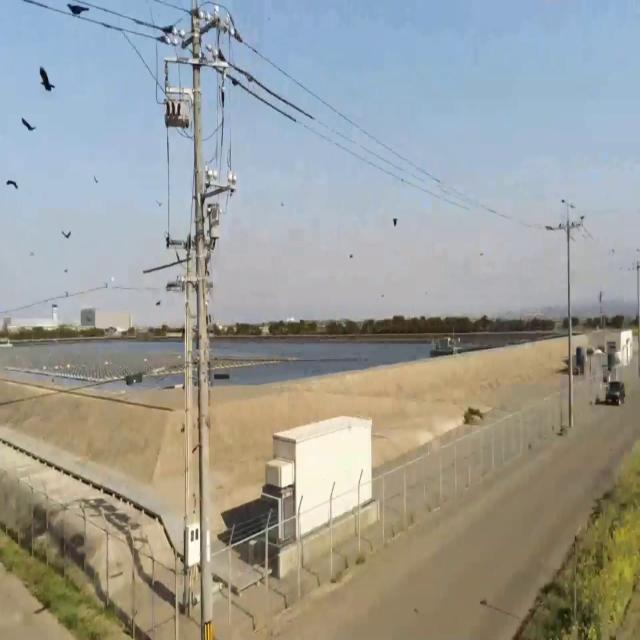bird: (39, 58, 54, 103), (22, 110, 35, 140), (68, 2, 85, 22), (6, 170, 18, 196), (62, 225, 71, 242), (393, 213, 398, 229), (177, 95, 180, 119)
